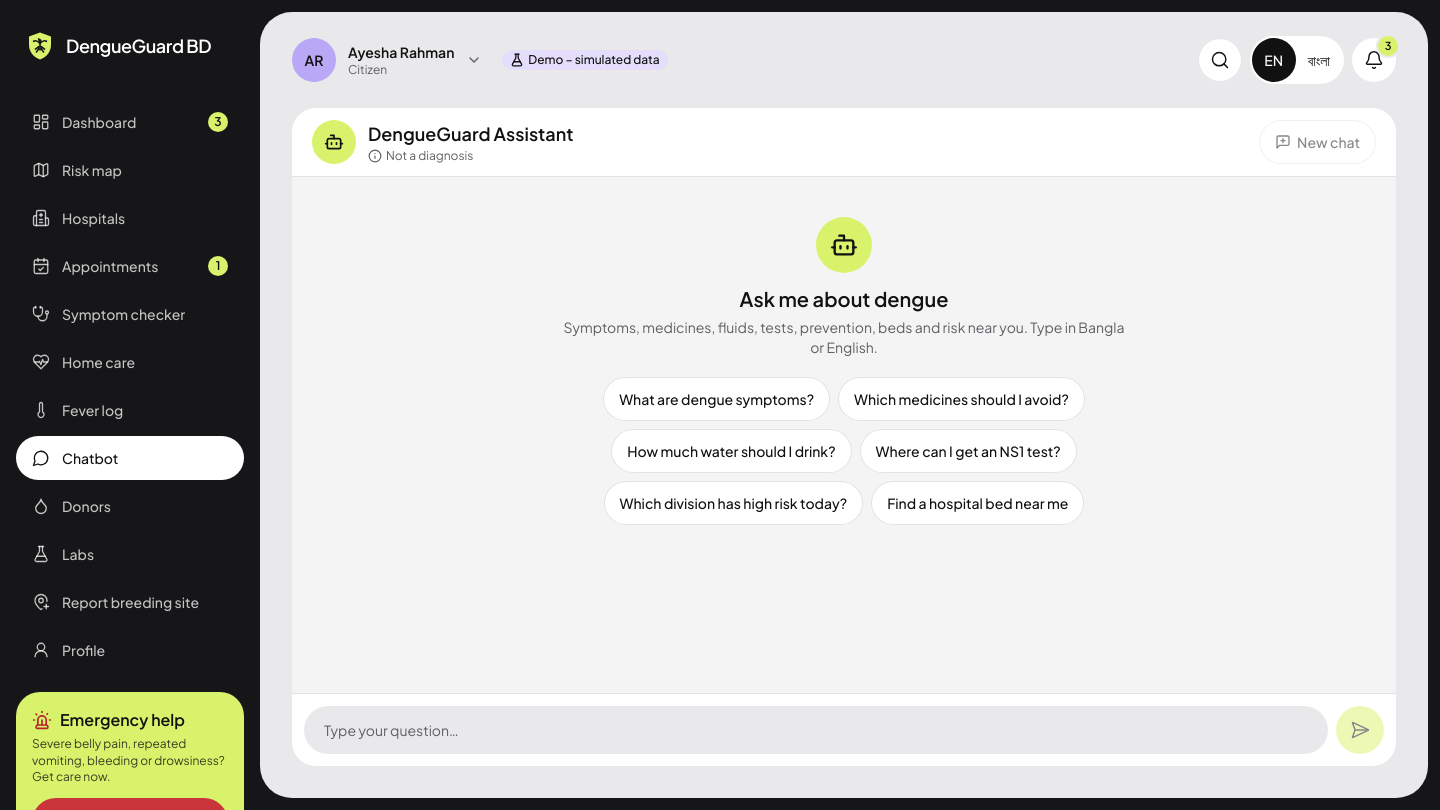
Test case: Chatbot (/chatbot) › shows labs for test questions
Click the button "Where can I get an NS1 test?".
click(968, 451)  # box top-left (860, 429), bottom-right (1077, 473)
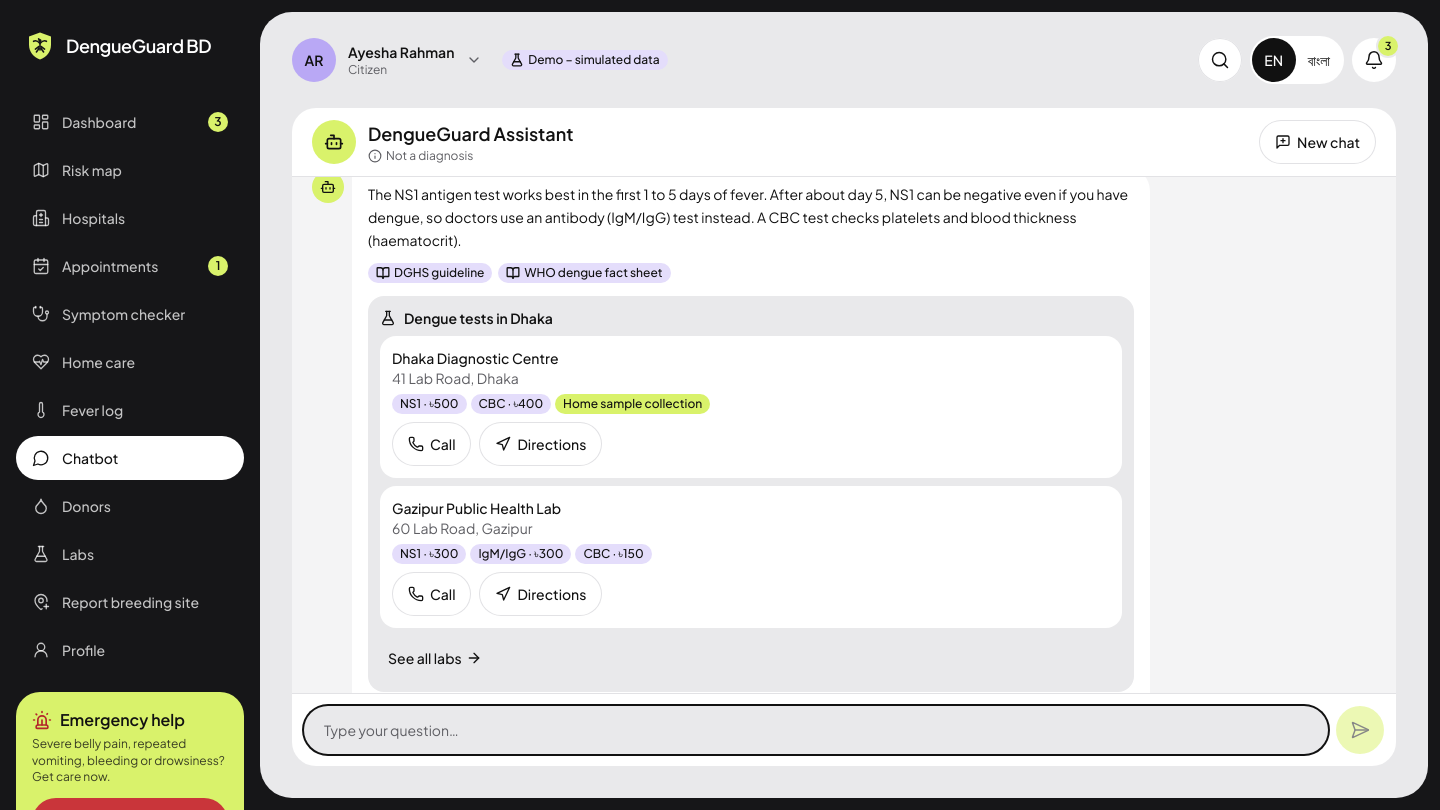
Check: the text "NS1 · ৳500" is shown, box top-left (392, 394), bottom-right (466, 414)
